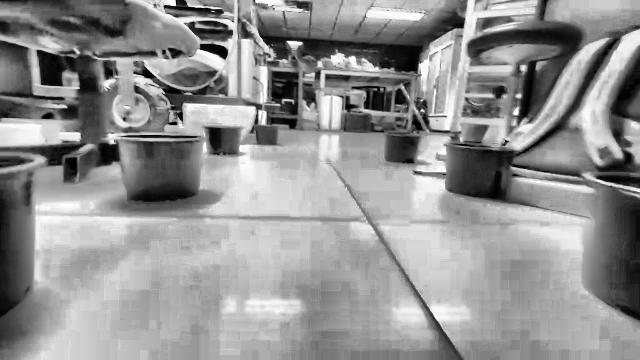pot: (584, 172, 639, 318), (0, 152, 46, 317), (114, 133, 203, 202), (446, 142, 515, 198), (385, 131, 421, 163), (203, 126, 241, 154), (254, 124, 278, 144)
